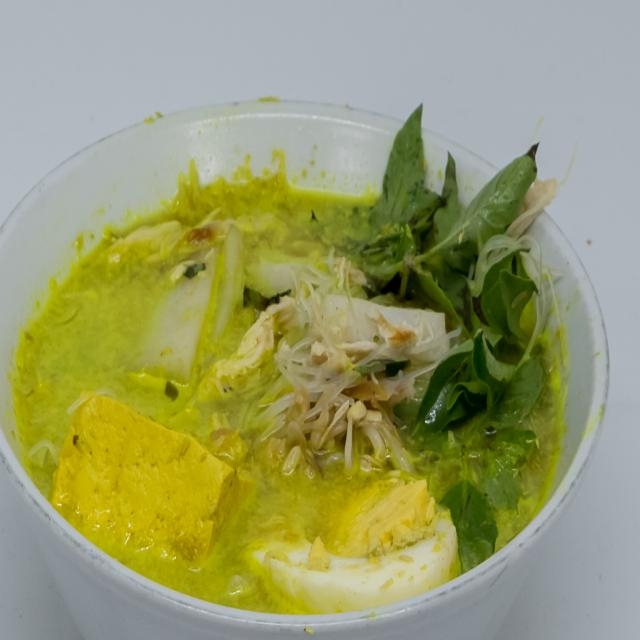Laksa-Bogor: (10, 101, 582, 615)
